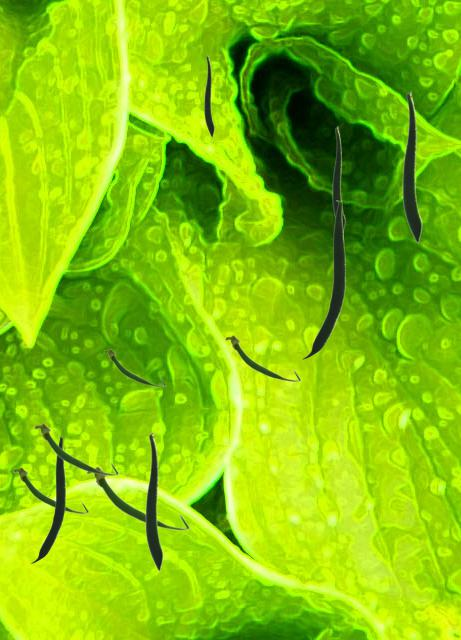french_bean: (301, 200, 344, 358), (85, 465, 189, 530), (33, 422, 118, 475), (30, 436, 64, 562), (224, 334, 300, 381), (12, 466, 88, 513), (402, 91, 421, 242), (103, 348, 165, 386), (145, 432, 162, 570), (332, 126, 344, 231), (204, 55, 213, 136)
